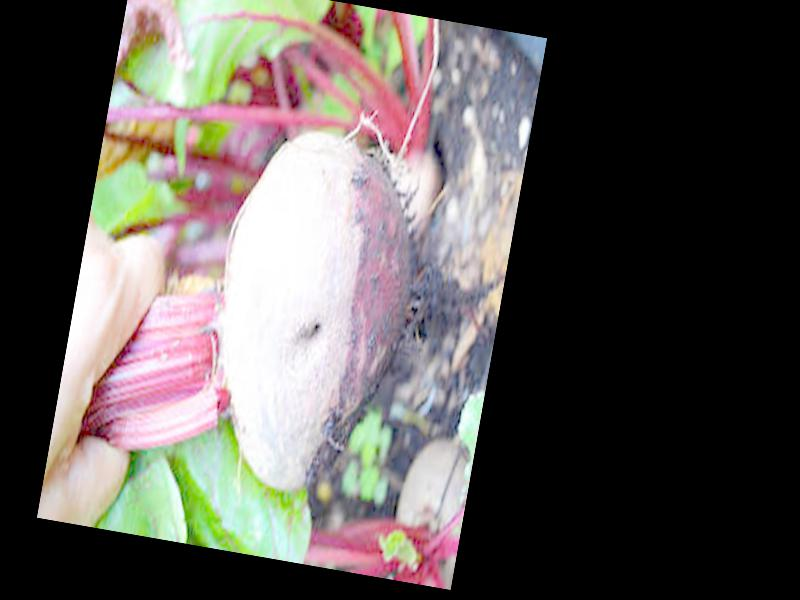Beet: (76, 97, 525, 520)
